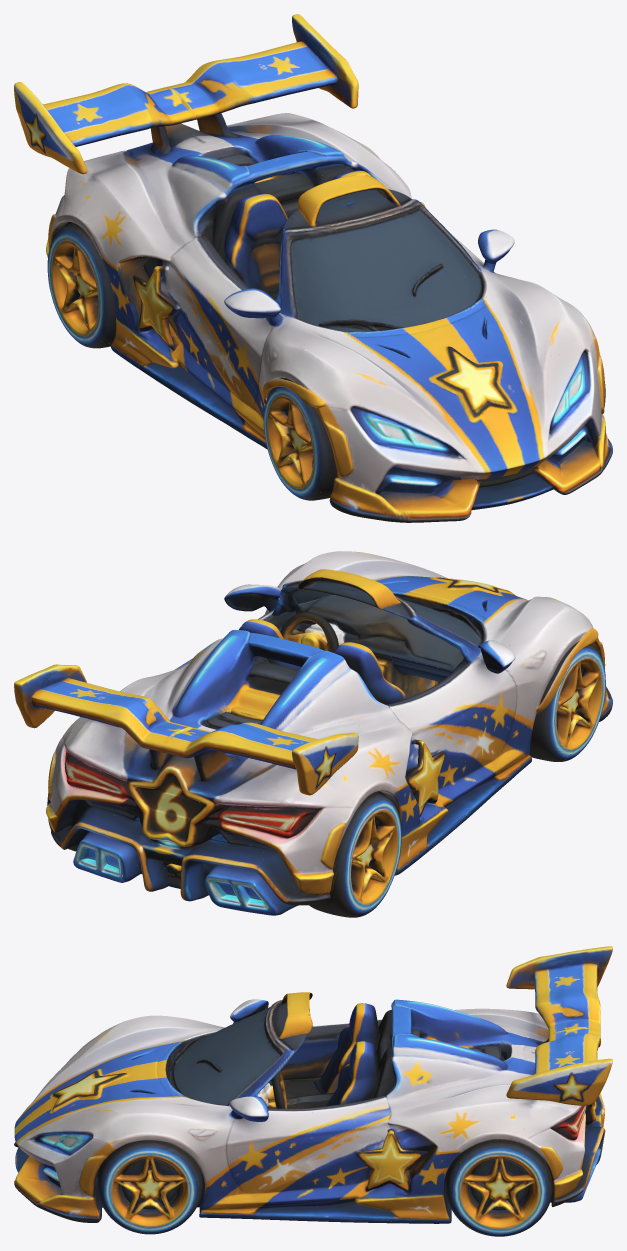
File: birthday-star-6.glb
3 views of the same model, one above another, from view 1: azimuth 30°, elevation 25°; view 2: azimuth 150°, elevation 25°; view 3: azimuth 270°, elevation 25° (orthographic). The views are drawn at different scales.
Parts seen in each view (by area): view 1: CarBody; view 2: CarBody; view 3: CarBody.
Part boxes in pixels (x1=…): CarBody: x1=14, y1=14, x2=612, y2=522; CarBody: x1=14, y1=551, x2=612, y2=917; CarBody: x1=14, y1=946, x2=612, y2=1236.
Bounding box in the file's own units: 2.06 × 1.42 × 4.29.
Materials: 1 (1 with a texture image).
